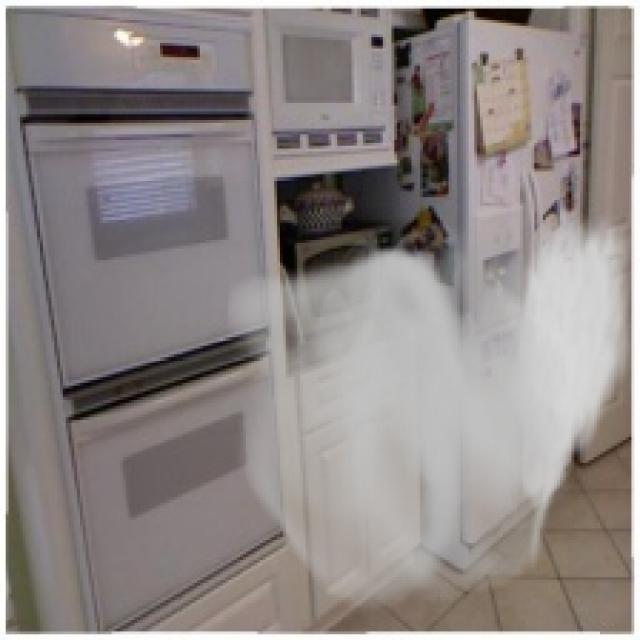Smoke: (225, 197, 638, 623)
